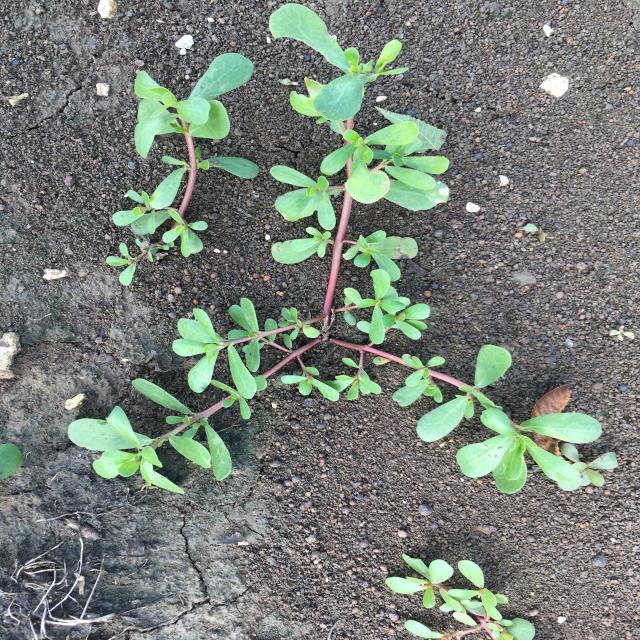Purslane: (68, 3, 618, 495), (106, 53, 259, 286), (386, 553, 536, 640)
